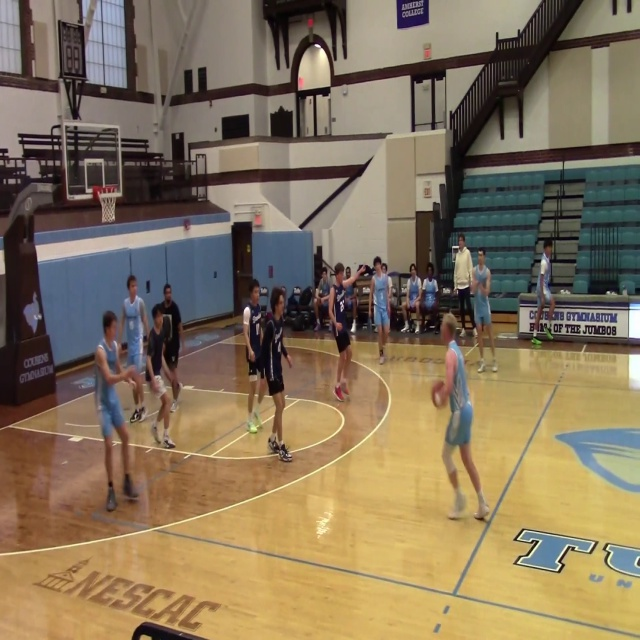Basketball: (431, 380, 448, 407)
